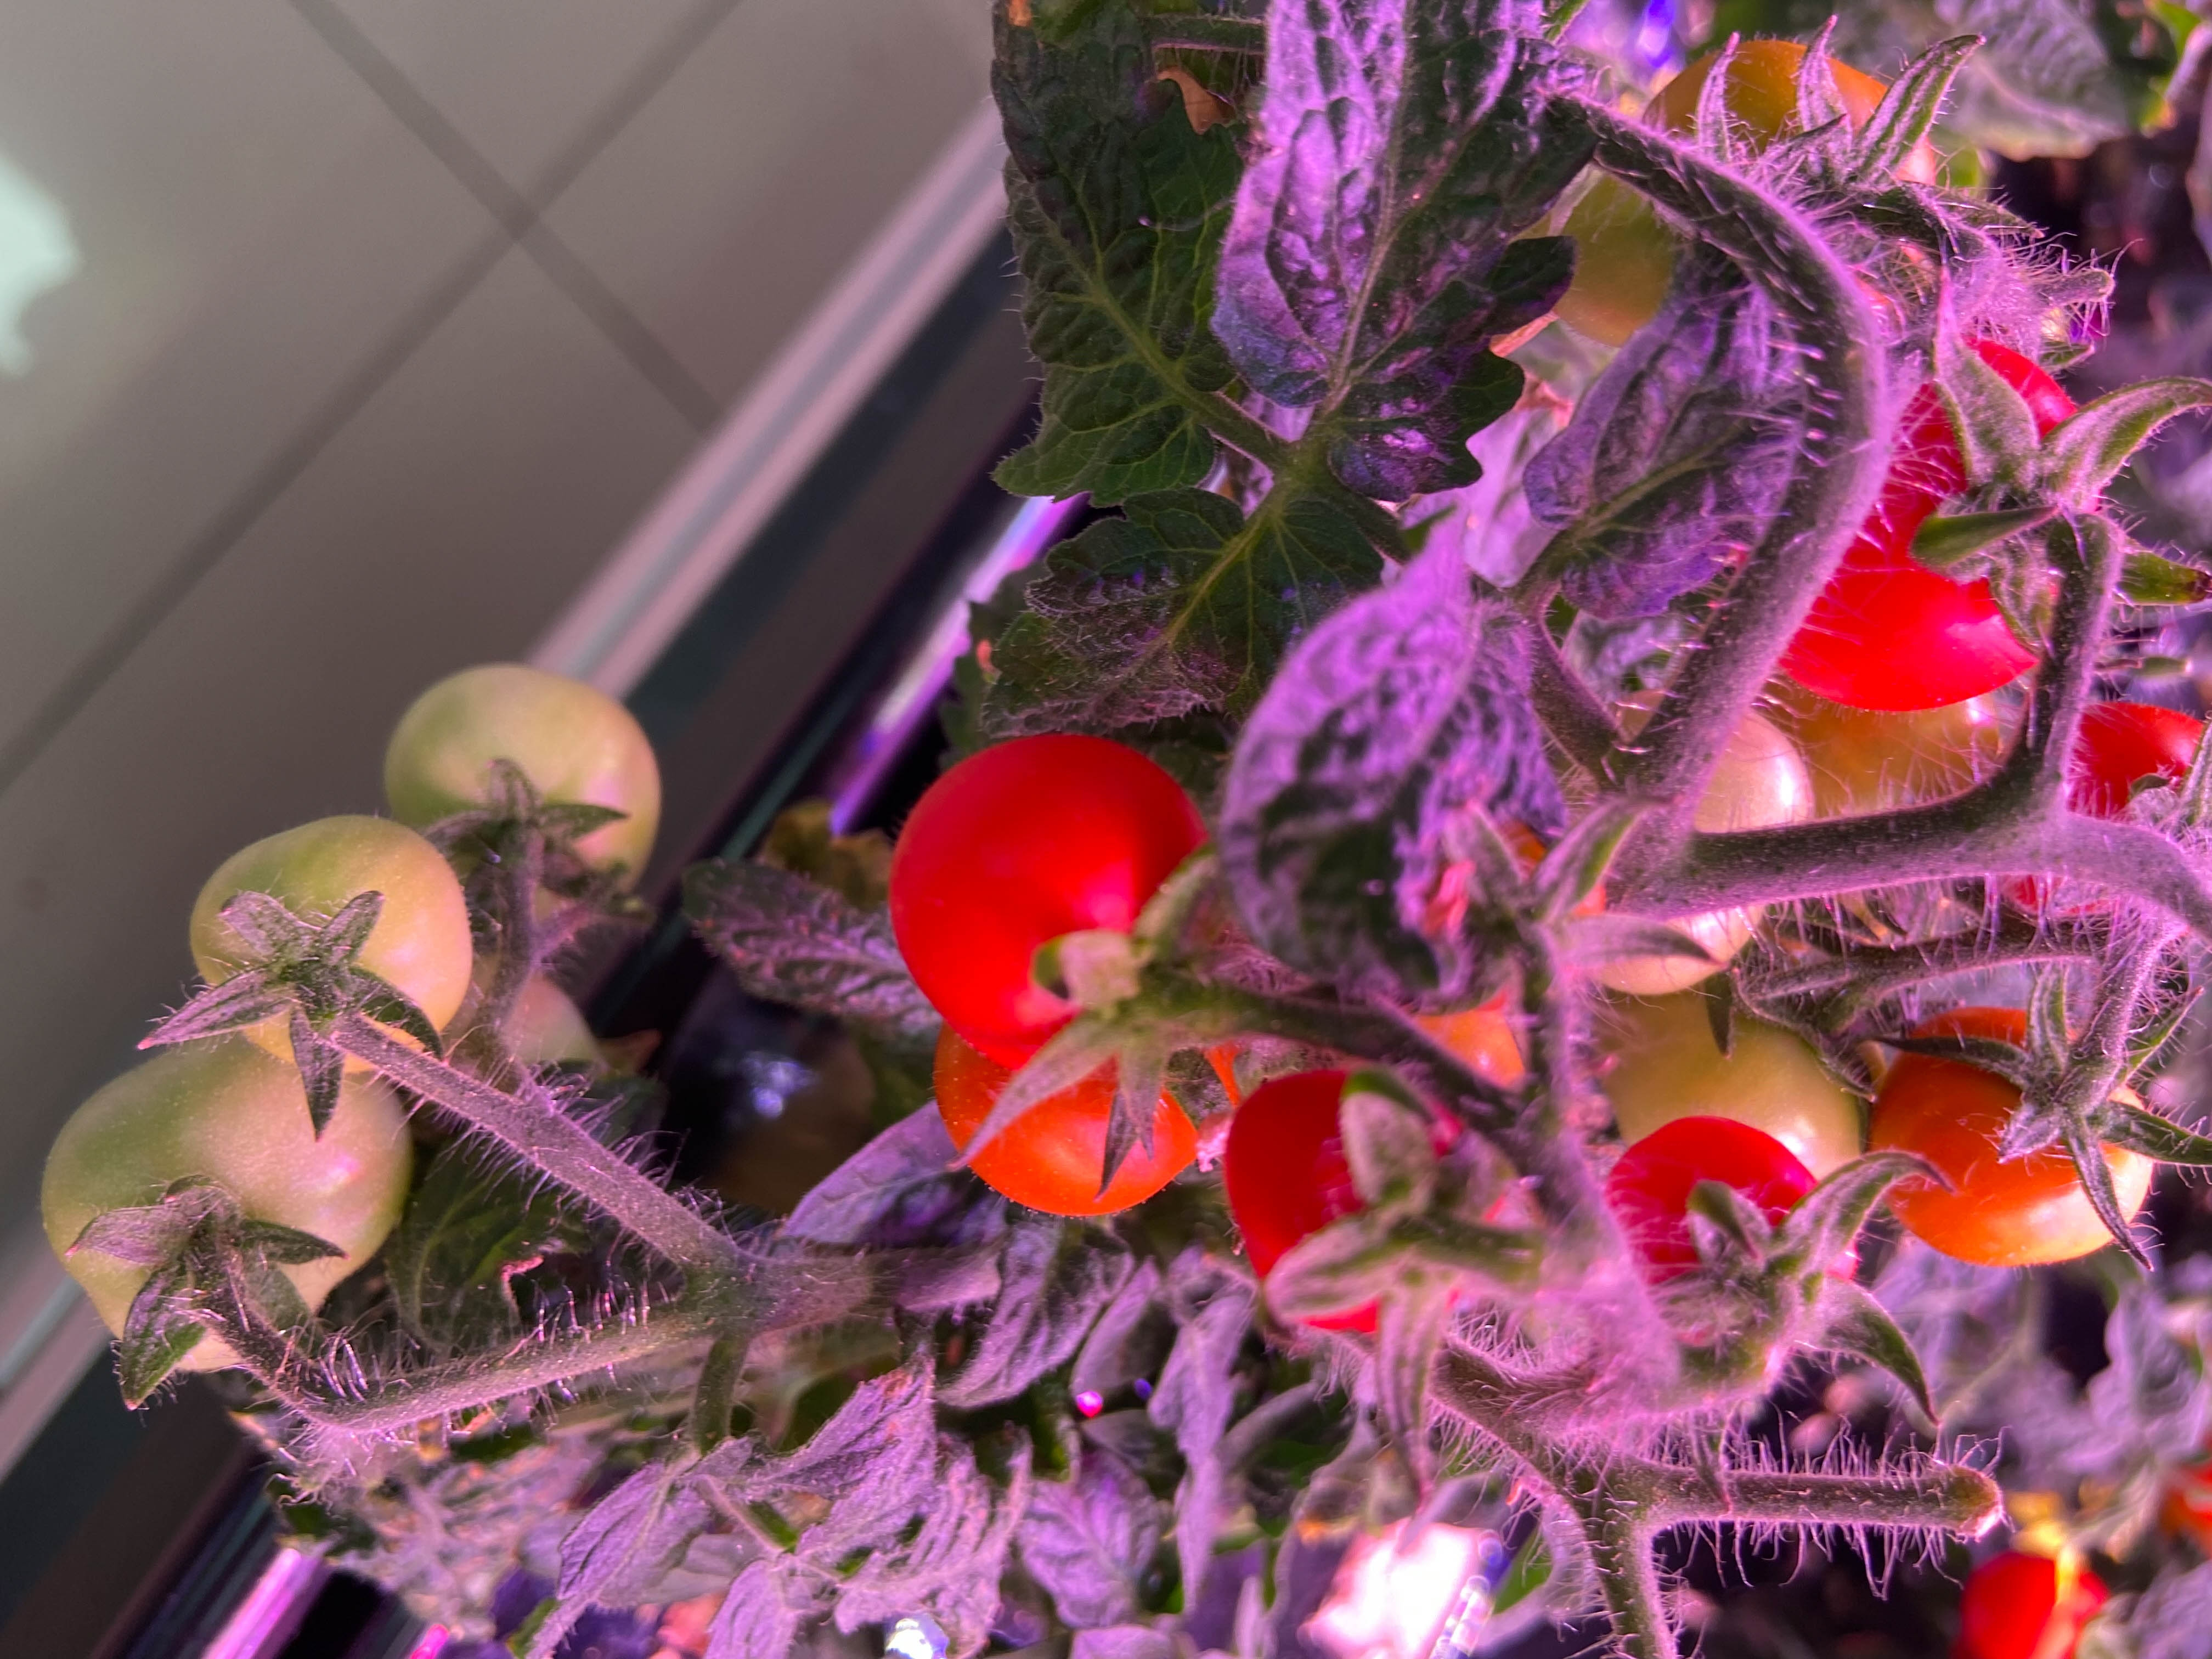green: (35, 1016, 413, 1359), (181, 812, 479, 1080), (1561, 699, 1820, 1004), (373, 653, 665, 920), (1606, 960, 1867, 1195), (1780, 657, 2052, 856), (1533, 145, 1709, 356), (437, 962, 601, 1107)
red: (1745, 328, 2107, 714), (888, 725, 1221, 1066), (1867, 1012, 2156, 1270), (935, 986, 1217, 1215), (1216, 1049, 1414, 1337), (1648, 26, 1954, 204), (1595, 1105, 1827, 1258), (1956, 1523, 2125, 1657), (2050, 695, 2212, 824)
